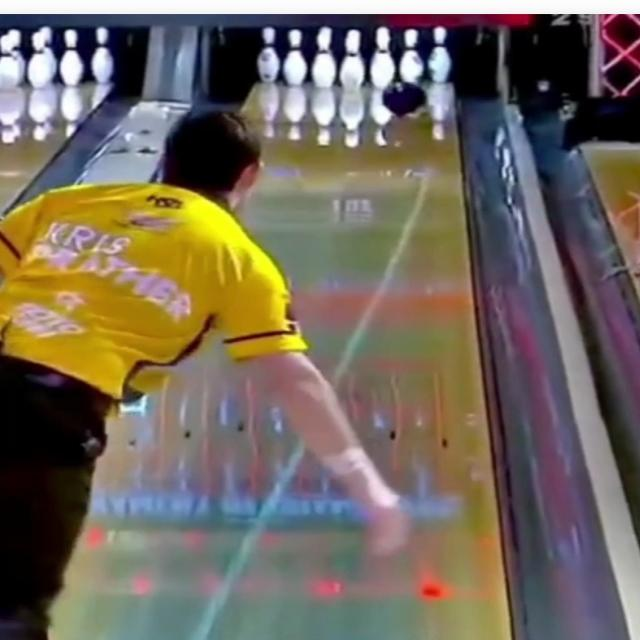alley: (53, 84, 509, 639)
balls: (383, 80, 425, 116)
bottle: (257, 27, 451, 90)
